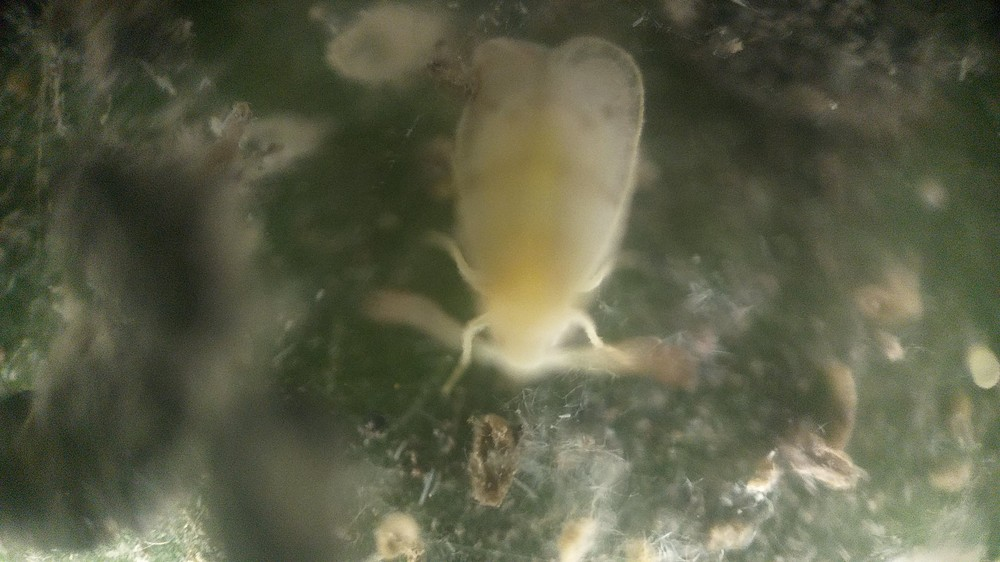Mosca Blanca: (409, 39, 662, 416)
